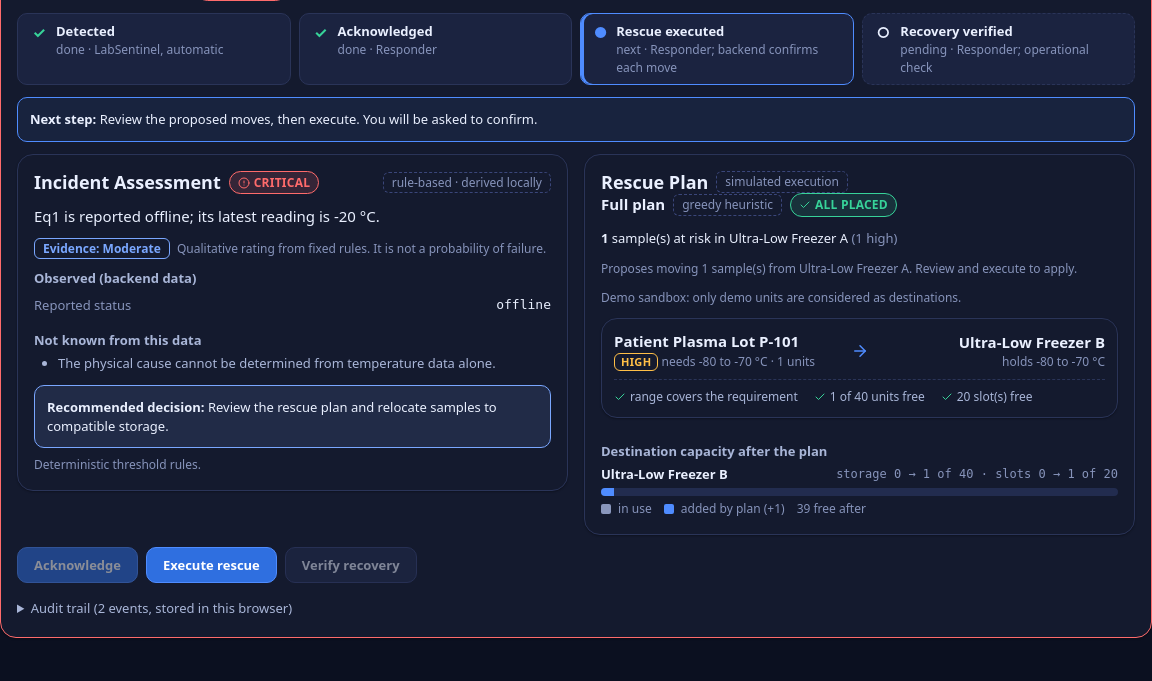
IncidentCard safety and human confirmation › asks for confirmation, and Escape cancels without sending any move
Click the button "Execute rescue": (211, 564) [146, 546, 277, 582]
(page scrolled)
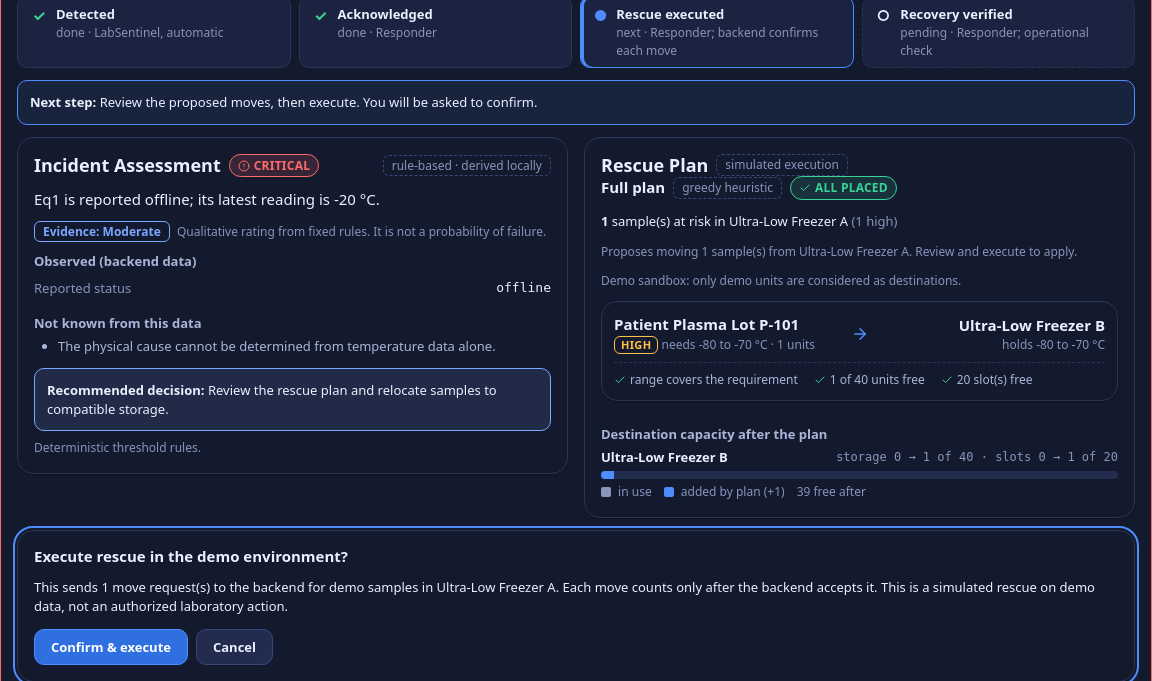
Press Escape
(page scrolled)
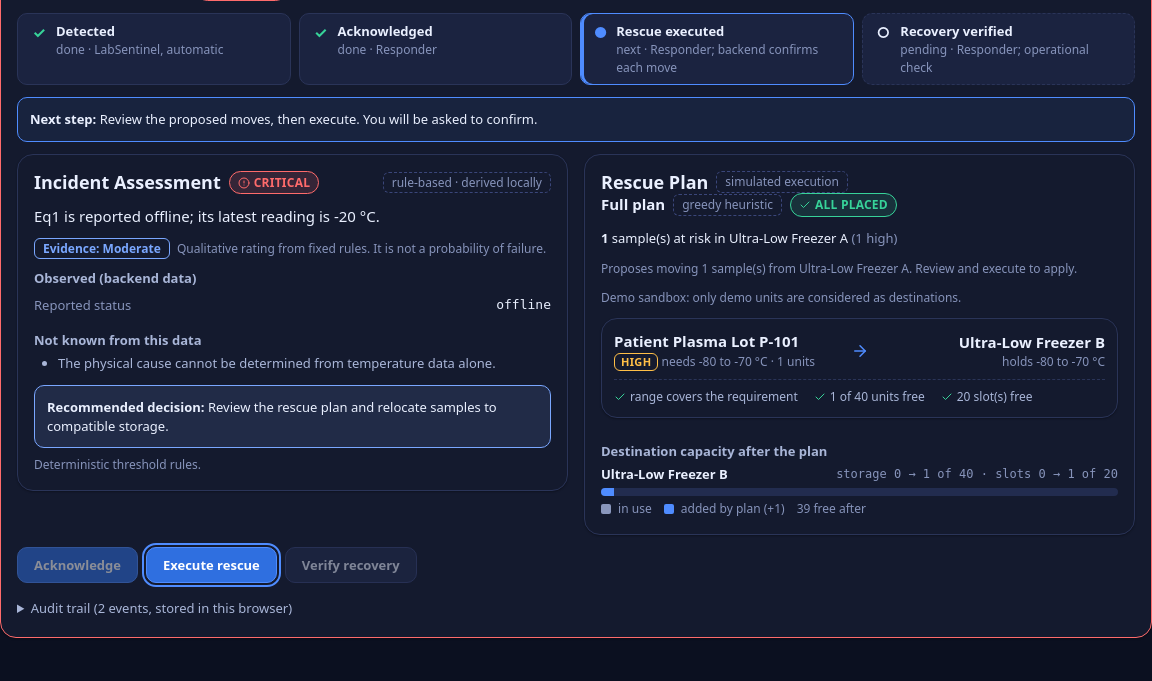
Expected: the dialog is gone
